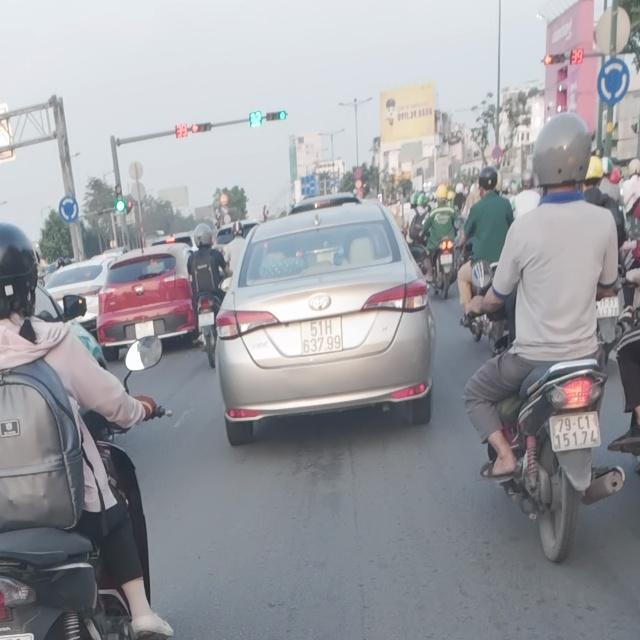license-plate: (549, 411, 601, 452), (300, 316, 343, 356)
